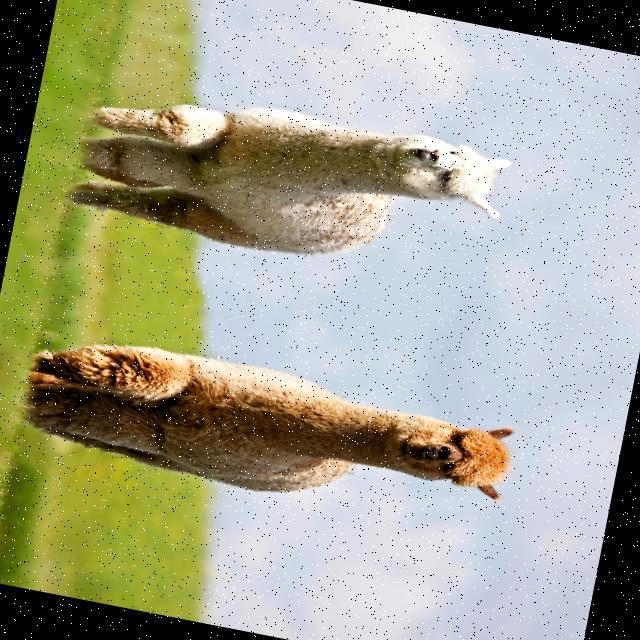sheep: (22, 343, 515, 500), (69, 104, 476, 255)
